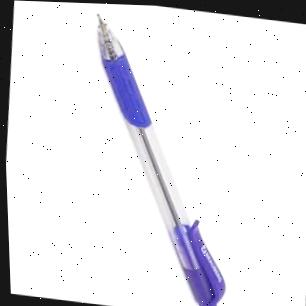pen-pencil: (98, 14, 223, 306), (138, 128, 179, 224)
